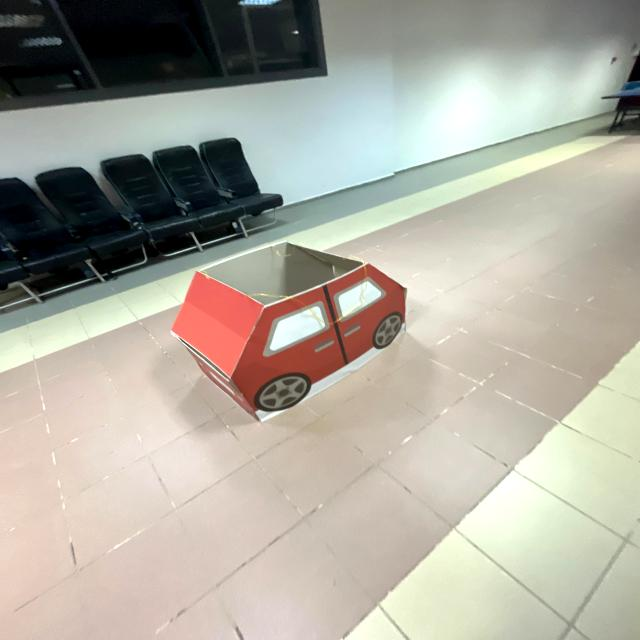red_car: (156, 232, 436, 430)
